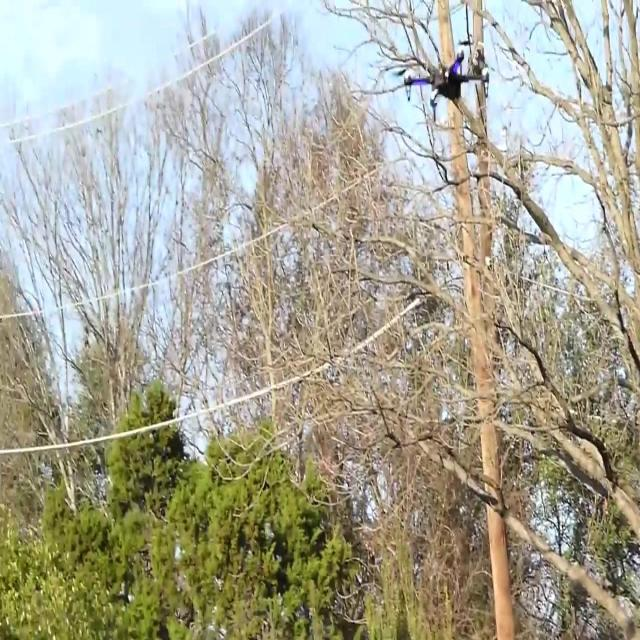drone: (397, 48, 491, 124)
